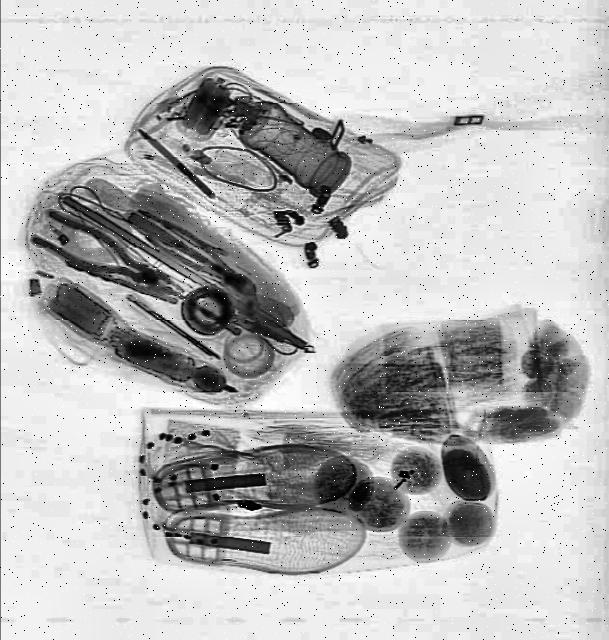Pliers: (30, 204, 194, 316), (142, 210, 266, 304)
